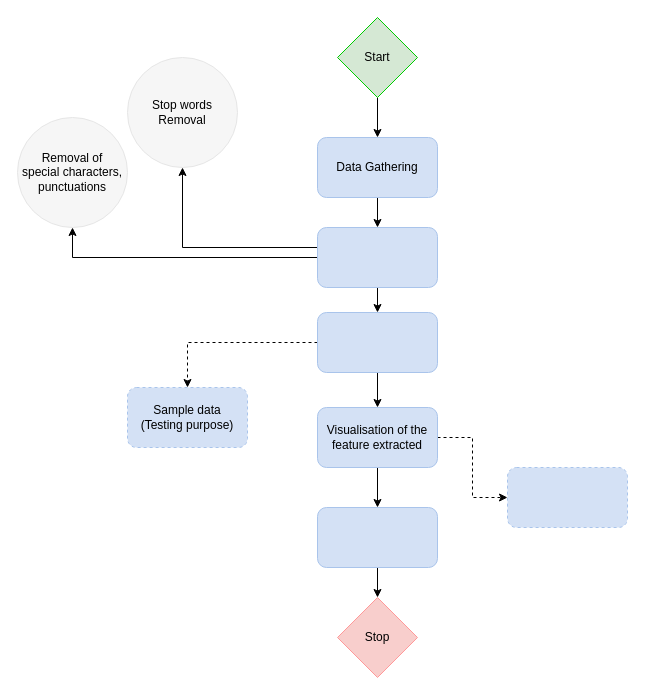
This 645x695 diagram has some shape labels left out. Here are the shapes that lost their labels. From the top down, the centre of each, then its label:
At (377,257): "Text Preprocessing".
At (377,342): "Sentiment Analysis".
At (567,497): "Comparative Visualisation".
At (377,537): "Model Evaluation and Testing".
